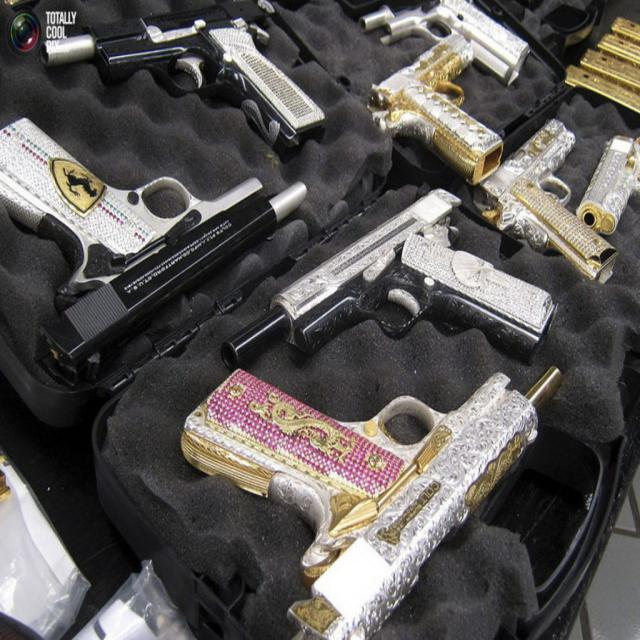Gun: (180, 366, 563, 640), (178, 370, 538, 640), (0, 118, 307, 356), (236, 189, 553, 363), (44, 0, 326, 147), (462, 119, 640, 285), (367, 29, 504, 186), (364, 0, 530, 85)
